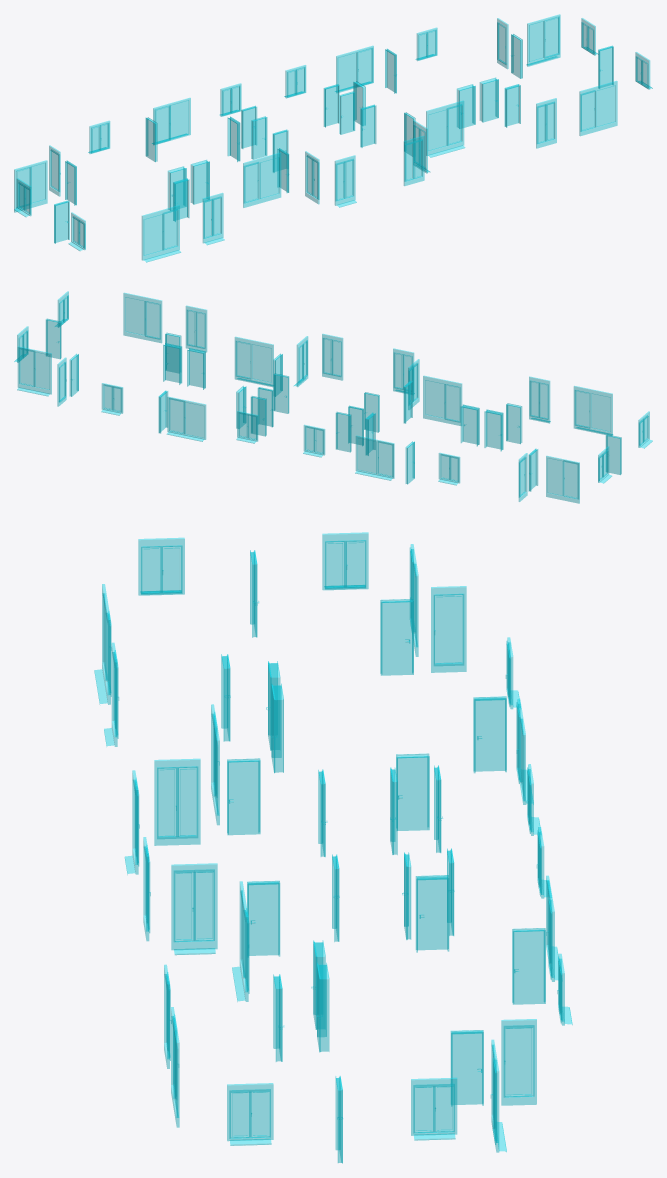
Rendered from Level_04_openings.glb.
3 renders of one model, top to bottom at view 1: azimuth 30°, elevation 25°; view 2: azimuth 150°, elevation 25°; view 3: azimuth 270°, elevation 25°, orthographic. The views are drawn at different scales.
Parts seen in each view (by area): view 1: world; view 2: world; view 3: world.
Part boxes in pixels (bbox=[...]): world: bbox=[14, 14, 652, 262]; world: bbox=[14, 291, 652, 503]; world: bbox=[94, 532, 572, 1163].
Size of the model in its own units: 37.14 by 2.67 by 13.41.
